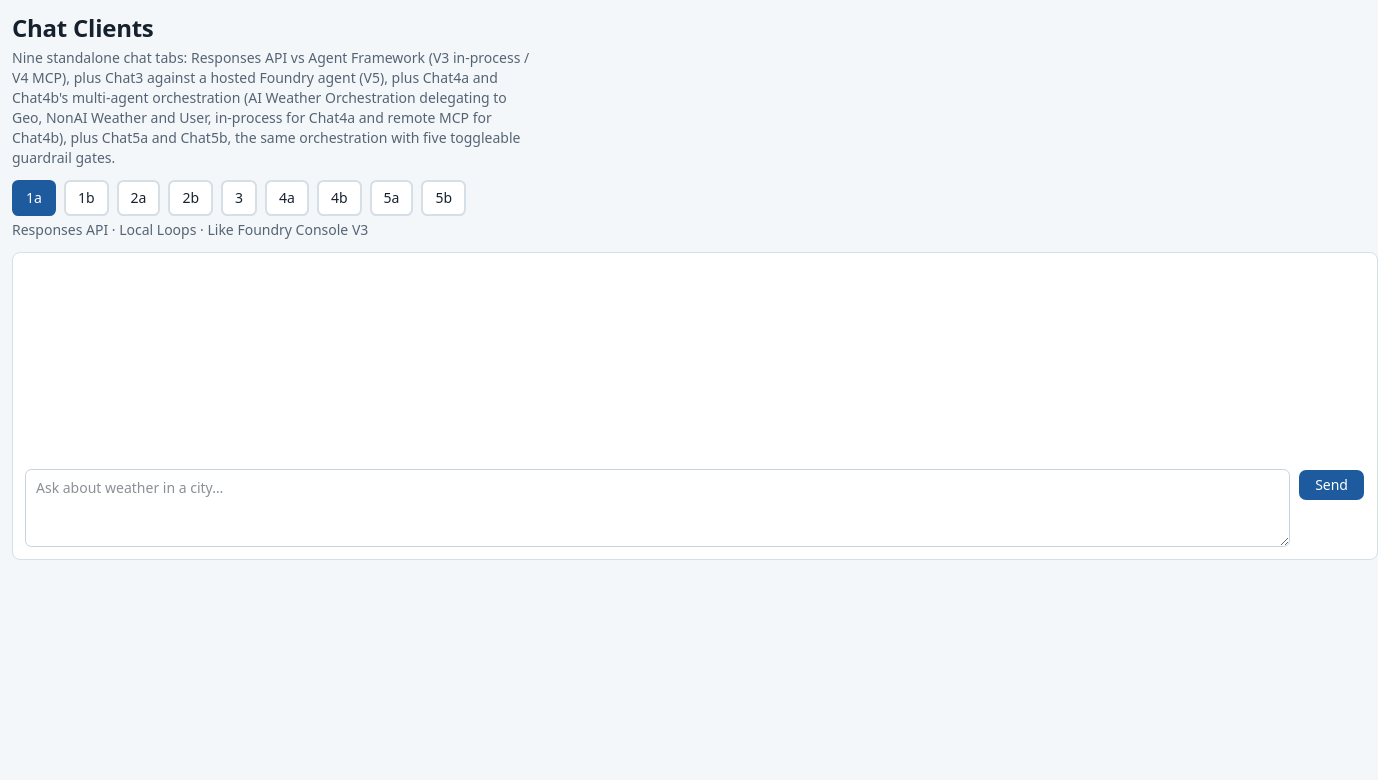
shows tool arguments and result on hover
This screenshot has width=1378, height=780.
Type "weather in nashville" into the text box named "message" at (658,508), box [25,469,1290,547]
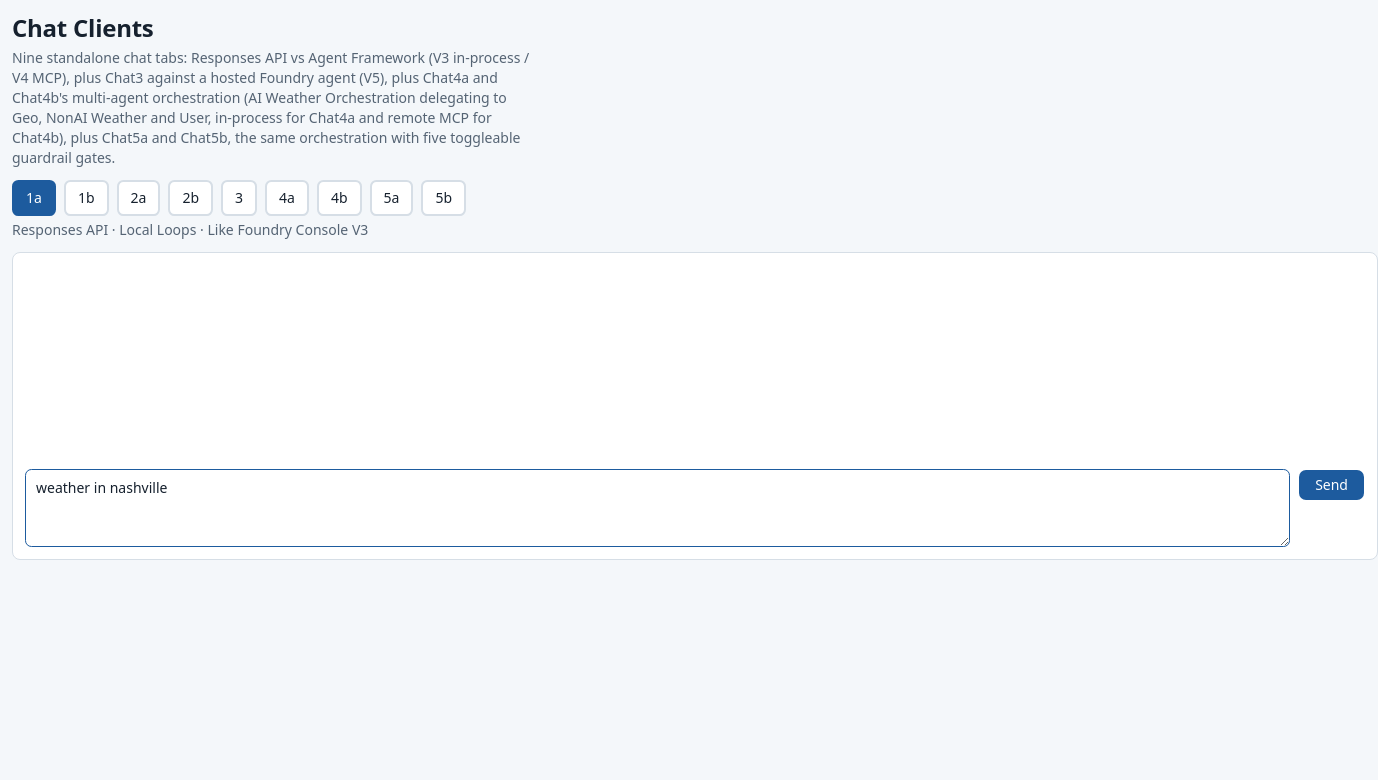
Click the button "Send" at (1332,485), box [1298,469,1365,501]
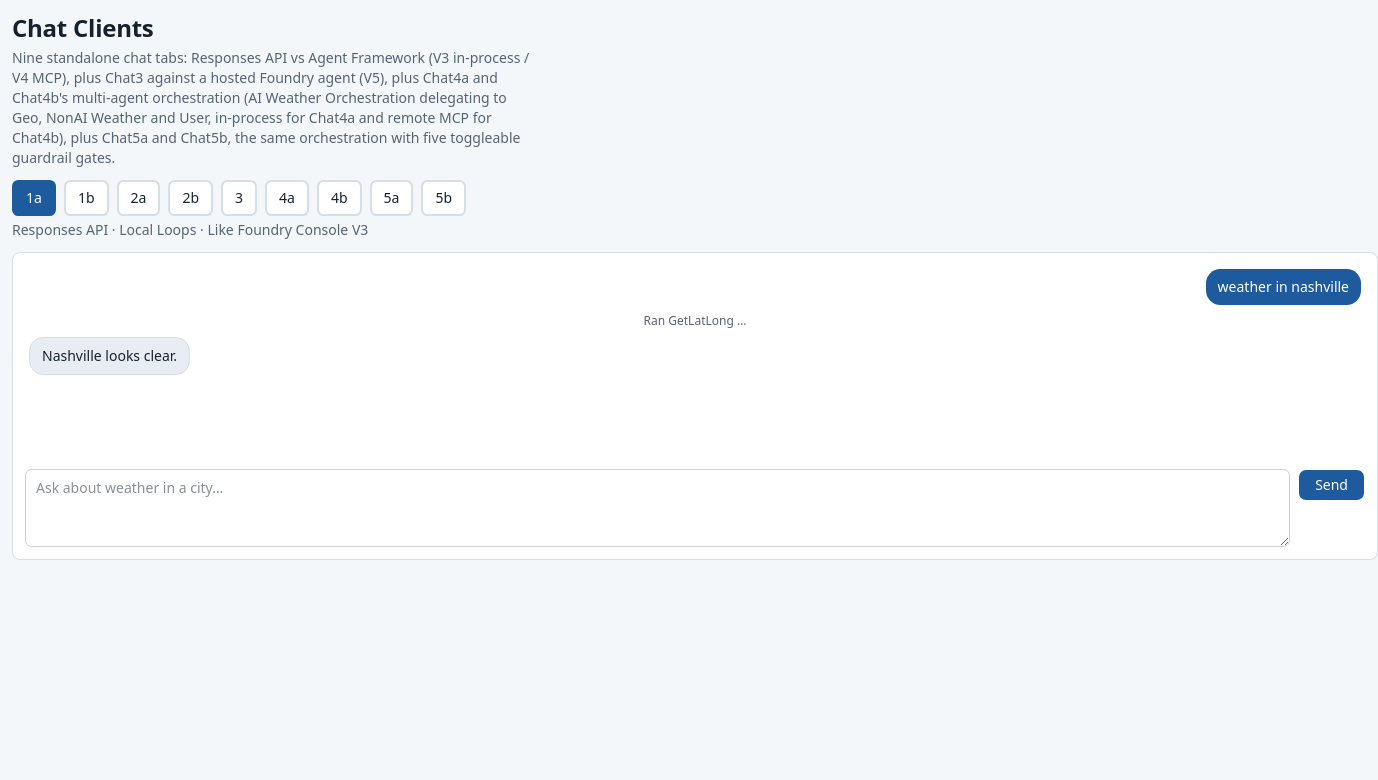
Hover over the text "Ran GetLatLong …" at (695,321), box [644,313,746,329]
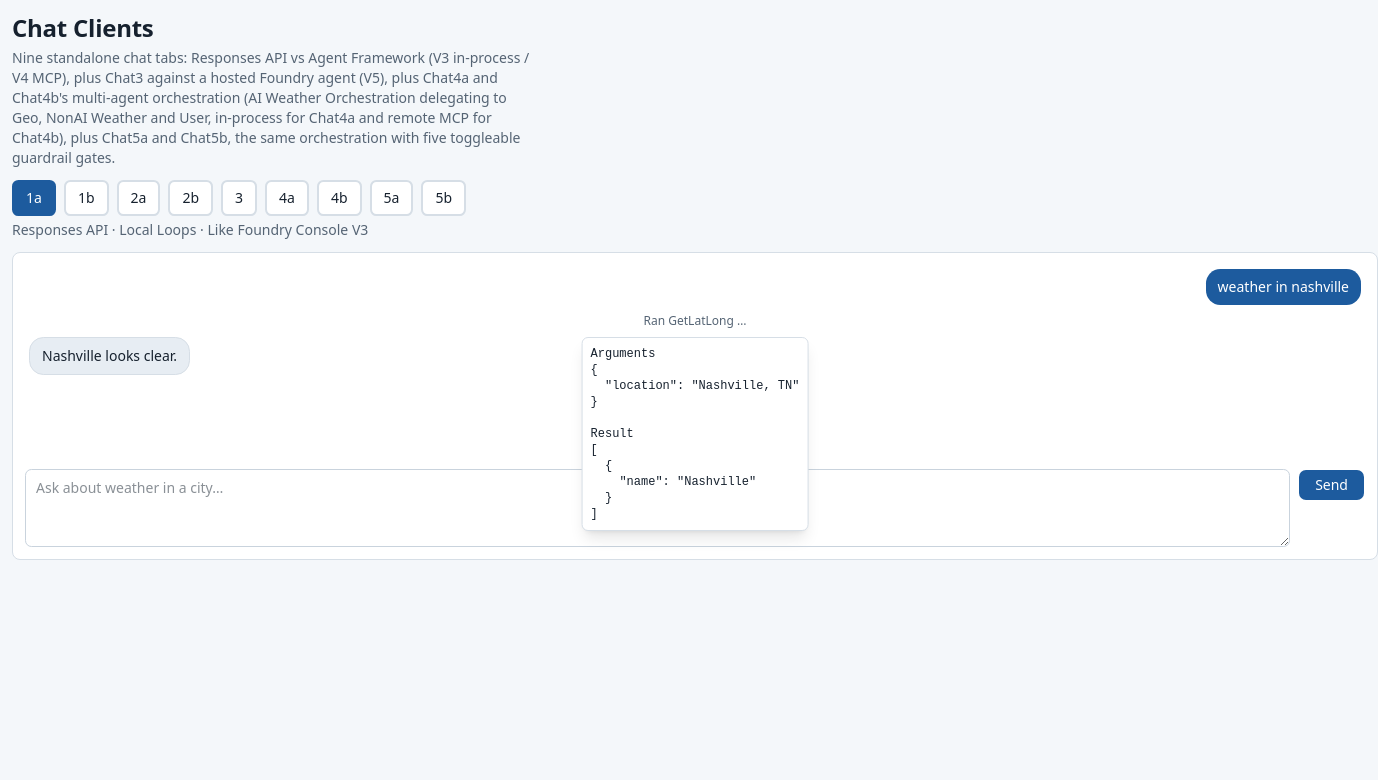
Result: the tooltip shows "Arguments" at [591,347,799,521]
Result: the tooltip shows "Nashville, TN" at [591,347,799,521]
Result: the tooltip shows "Result" at [591,347,799,521]
